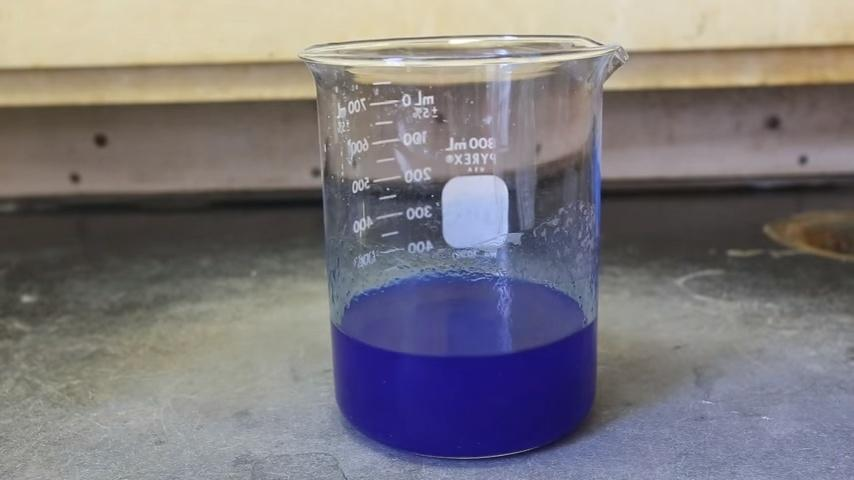Beaker: (278, 34, 635, 466)
